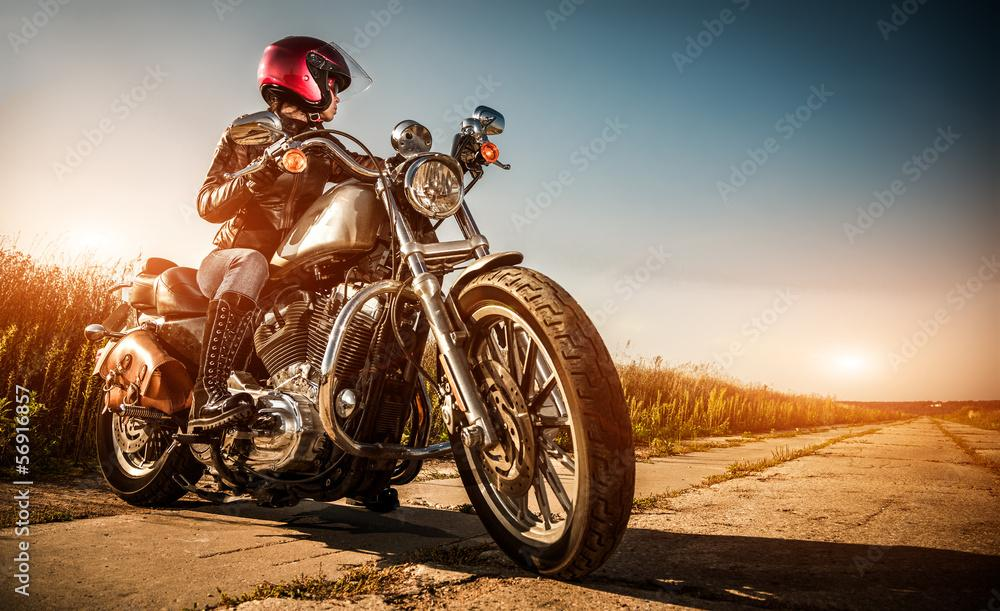helmet: (257, 34, 374, 130)
